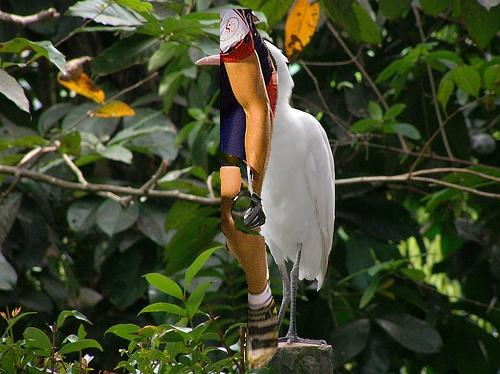tampered: (221, 10, 278, 369)
